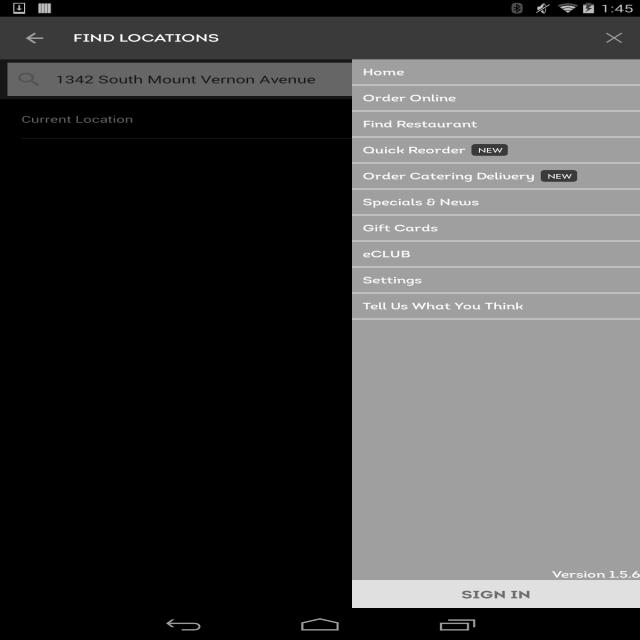EditText: (50, 63, 601, 96)
ImageButton: (0, 19, 60, 57)
ImageView: (0, 99, 640, 608), (540, 170, 578, 182), (472, 144, 508, 156), (18, 73, 40, 86), (600, 73, 622, 86)
TextView: (0, 99, 640, 139), (352, 568, 640, 580), (362, 167, 536, 185), (363, 297, 523, 315), (363, 193, 479, 211), (363, 115, 477, 133), (73, 31, 219, 45), (363, 141, 466, 159), (363, 89, 456, 107), (589, 22, 640, 54), (363, 219, 438, 237), (363, 271, 422, 289), (461, 588, 531, 601), (362, 245, 410, 263), (363, 63, 404, 81)
